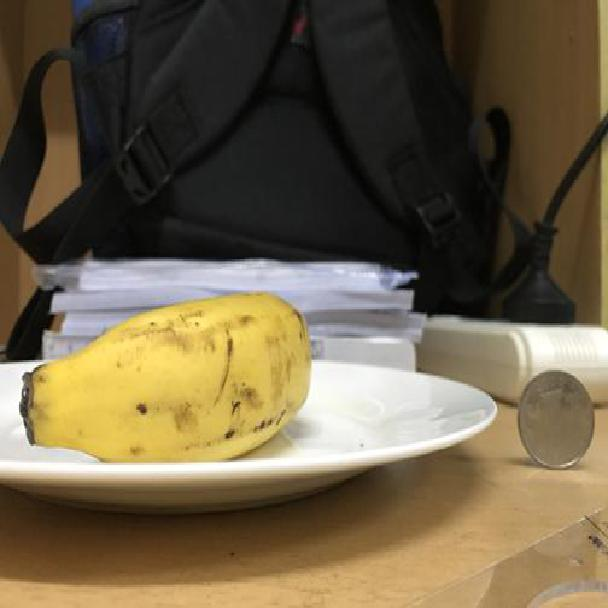banana: (23, 290, 314, 459)
